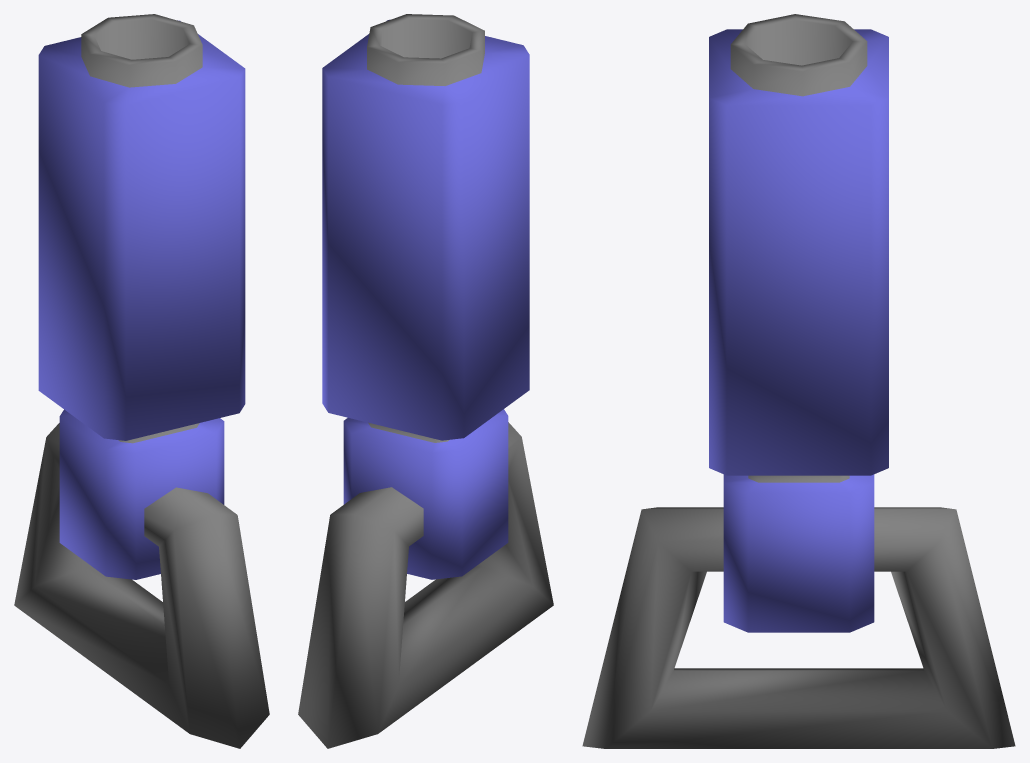
The model's file is pistol.glb.
3 renders of one model, left to right at view 1: azimuth 30°, elevation 25°; view 2: azimuth 150°, elevation 25°; view 3: azimuth 270°, elevation 25°, orthographic. The views are drawn at different scales.
Parts seen in each view (by area): view 1: test_grap; view 2: test_grap; view 3: test_grap.
Boxes of the visible parts, left/top/right/bottom form: test_grap: left=14, top=14, right=269, bottom=748; test_grap: left=298, top=14, right=553, bottom=748; test_grap: left=582, top=14, right=1015, bottom=748.
Size of the model in its own units: 1.79 by 7.71 by 4.3.
Materials: 2 (1 with a texture image).
